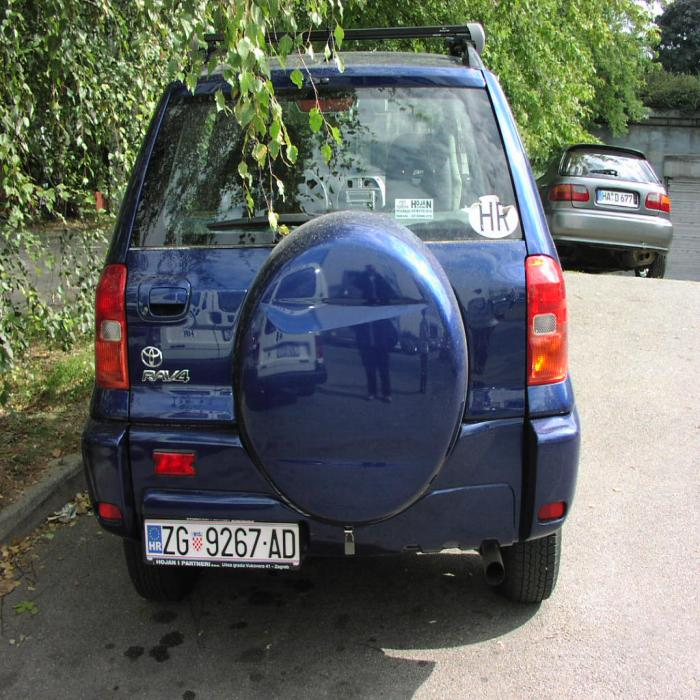number_plate: (144, 522, 300, 562)
